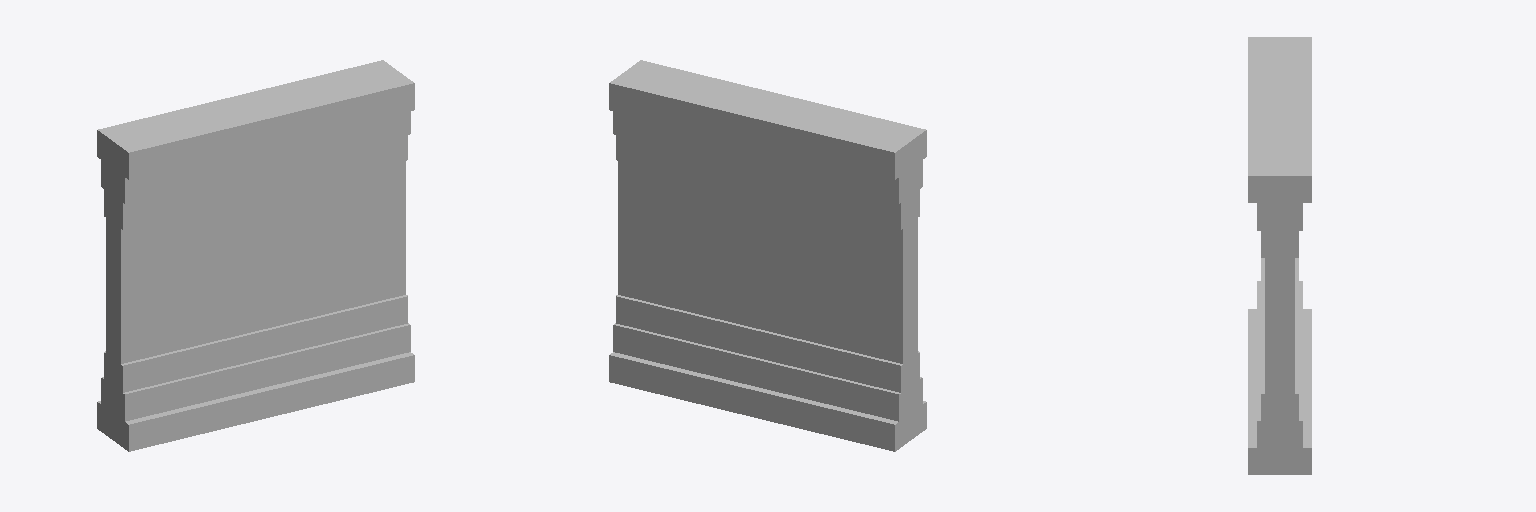
The model's file is door.obj.
The picture shows the model from 3 angles: view 1: azimuth 30°, elevation 25°; view 2: azimuth 150°, elevation 25°; view 3: azimuth 270°, elevation 25°; orthographic projection.
Visible parts, largest first — view 1: Cube_Cube.001; view 2: Cube_Cube.001; view 3: Cube_Cube.001.
Boxes of the visible parts, <box> form: Cube_Cube.001: <box>97,60,414,451</box>; Cube_Cube.001: <box>609,60,926,451</box>; Cube_Cube.001: <box>1248,37,1311,474</box>.
Size of the model in its own units: 10 by 10 by 1.91.